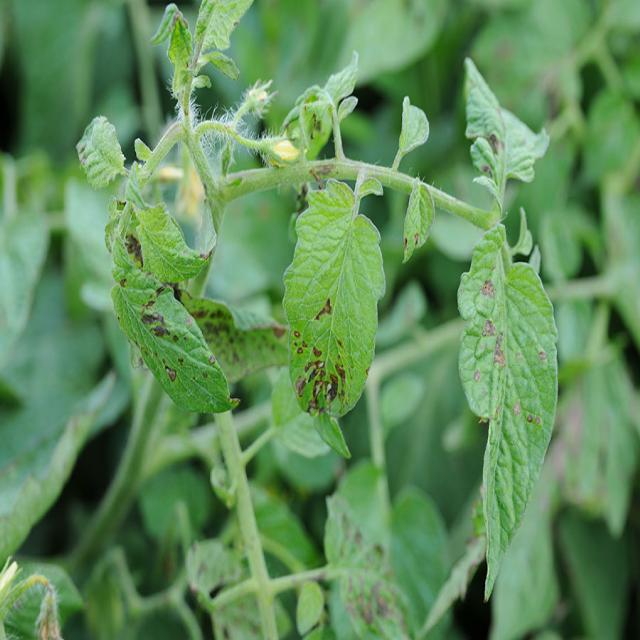Tomato leaf bacterial spot: (457, 214, 565, 602), (280, 171, 392, 425), (106, 246, 242, 433), (466, 50, 553, 216), (323, 495, 413, 640), (183, 286, 290, 392)
